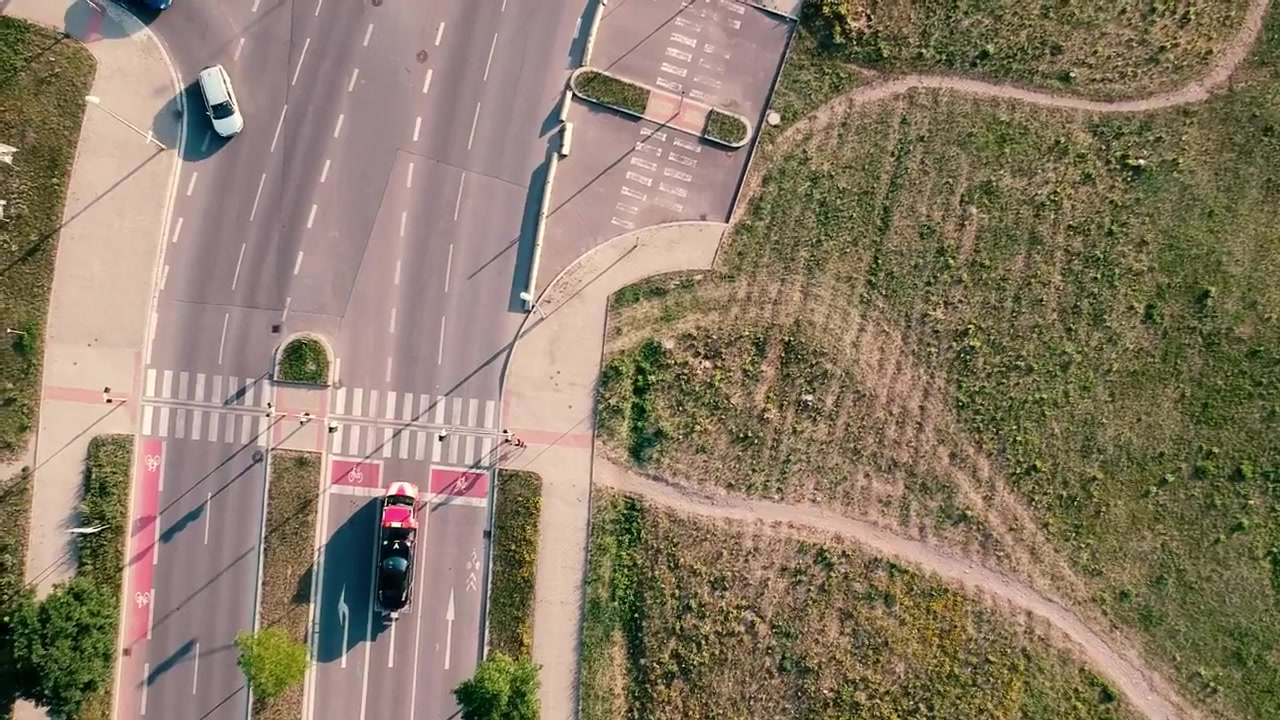car: (372, 478, 420, 621), (195, 62, 245, 139)
